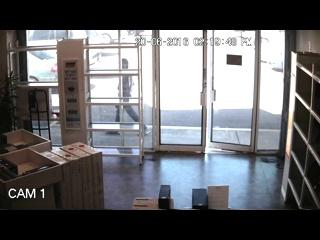Normal: (105, 58, 148, 136)
